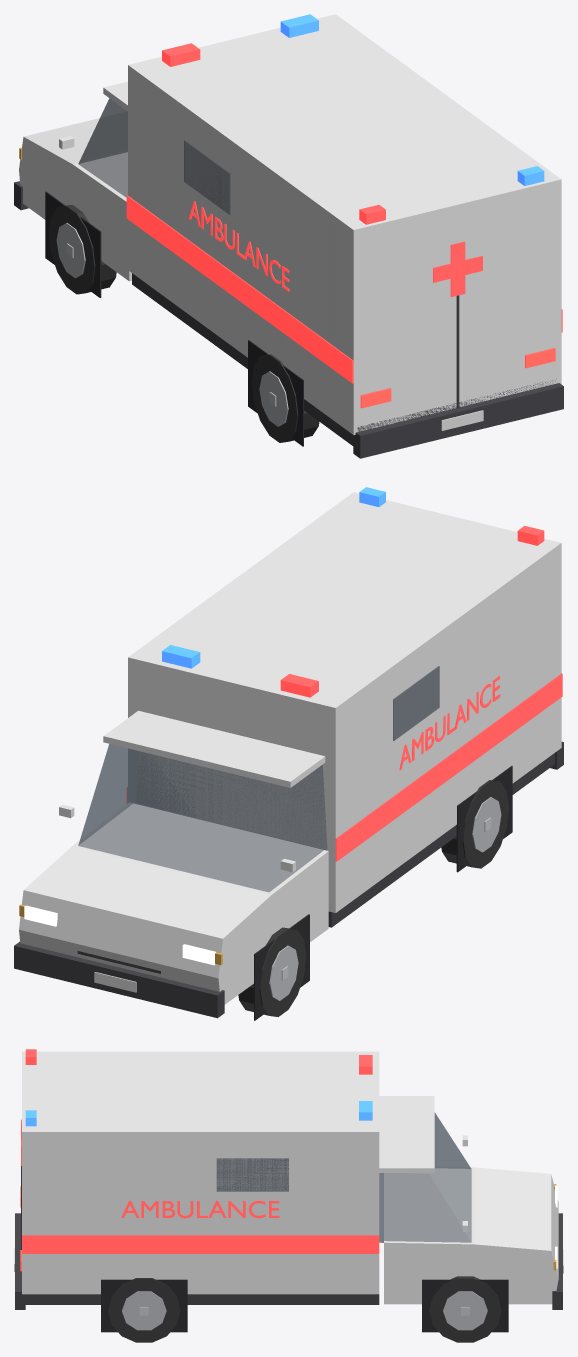
The model's file is ambulance.glb.
3 renders of one model, top to bottom at view 1: azimuth 30°, elevation 25°; view 2: azimuth 150°, elevation 25°; view 3: azimuth 270°, elevation 25°, orthographic. The views are drawn at different scales.
Visible parts, largest first — view 1: box, body, stripe-1, bumper_rear, wheel_lf, wheel_lb, cabin, box_floor, window-1, amb_text-1, arch_lf, arch_lb (+4 smaller); view 2: box, body, cabin, cab_roof, stripe-1, bumper_front, wheel_lf, wheel_lb, box_floor, window-1, amb_text-1, arch_lb (+3 smaller); view 3: box, body, cabin, stripe1, cab_roof, wheel_rf, wheel_rb, box_floor, window1, arch_rf, arch_rb, amb_text1 (+2 smaller).
Boxes of the visible parts, x1,y1,x2,y2 form: box: [128, 14, 561, 434]; body: [19, 112, 131, 281]; stripe-1: [126, 195, 353, 383]; bumper_rear: [353, 383, 563, 458]; wheel_lf: [48, 205, 116, 294]; wheel_lb: [251, 354, 319, 442]; cabin: [78, 98, 127, 197]; box_floor: [132, 273, 556, 445]; window-1: [184, 140, 230, 214]; amb_text-1: [189, 201, 289, 291]; arch_lf: [45, 191, 101, 297]; arch_lb: [248, 340, 303, 446]; box: [128, 492, 561, 912]; body: [19, 803, 328, 1004]; cabin: [78, 744, 327, 892]; cab_roof: [103, 710, 325, 787]; stripe-1: [335, 673, 562, 861]; bumper_front: [14, 941, 224, 1018]; wheel_lf: [238, 927, 306, 1016]; wheel_lb: [441, 780, 508, 868]; box_floor: [328, 753, 554, 927]; window-1: [393, 666, 439, 740]; amb_text-1: [399, 676, 500, 770]; arch_lb: [456, 766, 512, 872]; box: [22, 1051, 379, 1294]; body: [384, 1167, 558, 1304]; cabin: [379, 1112, 471, 1242]; stripe1: [22, 1235, 379, 1253]; cab_roof: [379, 1096, 434, 1172]; wheel_rf: [429, 1276, 501, 1342]; wheel_rb: [108, 1278, 180, 1342]; box_floor: [25, 1294, 379, 1304]; window1: [216, 1158, 288, 1191]; arch_rf: [422, 1279, 508, 1332]; arch_rb: [101, 1279, 187, 1332]; amb_text1: [121, 1200, 279, 1218].
Size of the model in its own units: 2.36 by 2.66 by 6.08.
